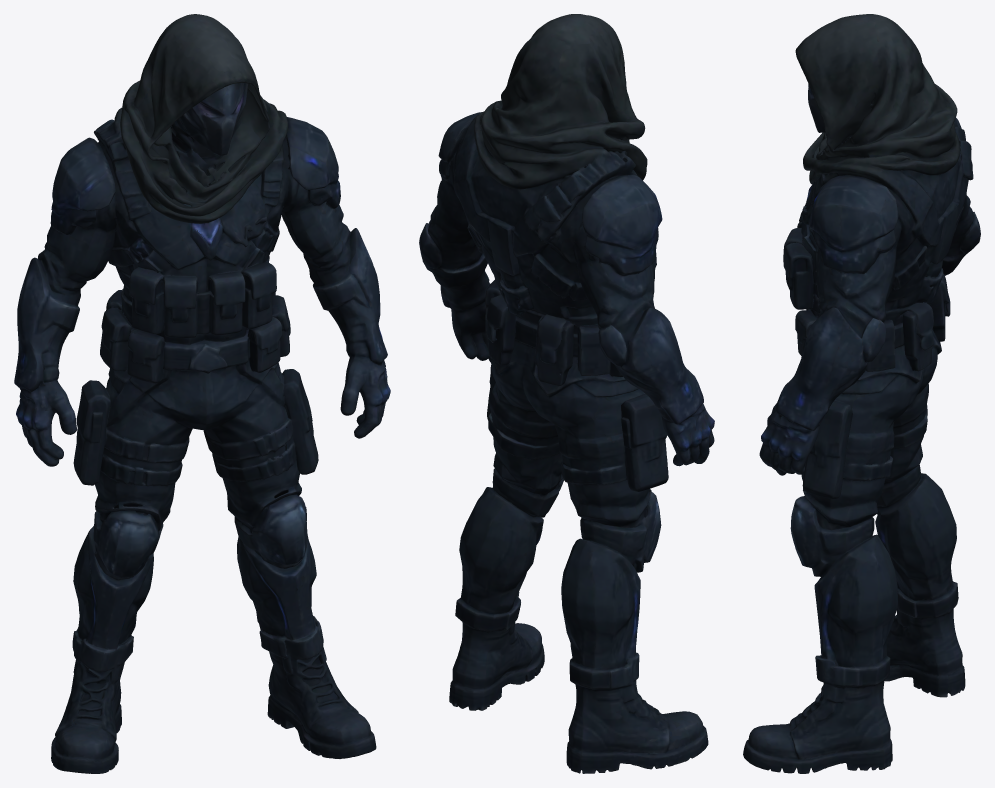
Rendered from codm-ghost-nightfall.glb.
3 renders of one model, left to right at view 1: azimuth 30°, elevation 25°; view 2: azimuth 150°, elevation 25°; view 3: azimuth 270°, elevation 25°, orthographic. The views are drawn at different scales.
Parts seen in each view (by area): view 1: world; view 2: world; view 3: world.
Part boxes in pixels (x1,y1,x2,y2): world: (14,14,390,773); world: (419,14,714,773); world: (743,14,980,773).
Size of the model in its own units: 0.4595 by 1 by 0.309.
1 material, 1 textured.
